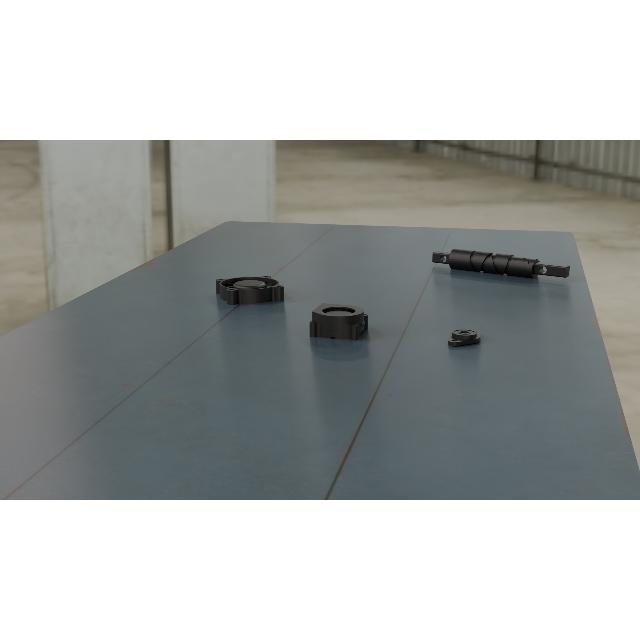Pieza1: (430, 246, 572, 284)
Pieza2: (438, 324, 490, 348)
Pieza3: (308, 303, 370, 342)
Pieza4: (214, 276, 286, 306)
